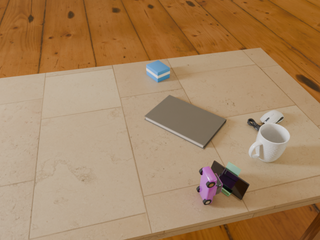book: (145, 95, 226, 149)
box: (147, 60, 170, 82)
cup: (249, 123, 290, 162)
mouse: (260, 110, 284, 125)
phone: (211, 161, 249, 200)
toy_car: (196, 166, 223, 205)
